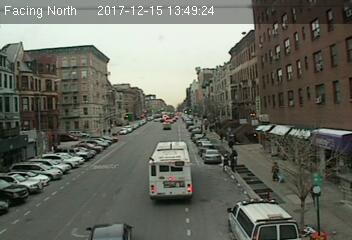bus: (148, 140, 195, 201)
car: (202, 150, 222, 164)
pedestrian: (229, 147, 240, 173), (272, 161, 279, 180)
police: (226, 197, 305, 240)
